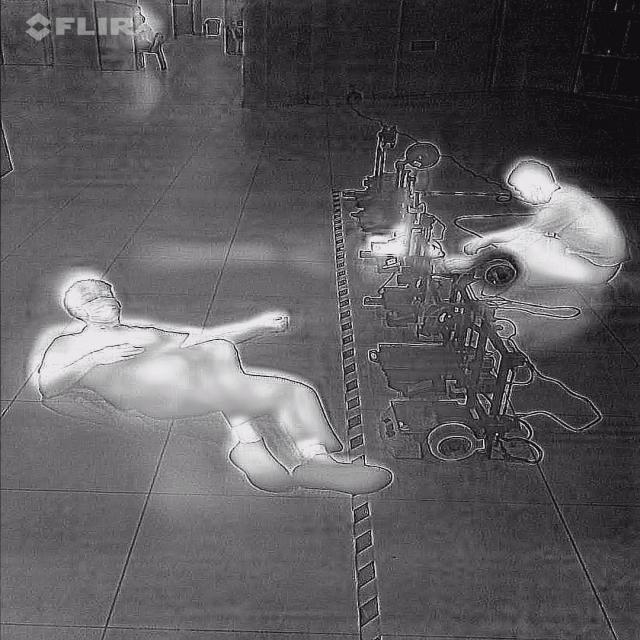Victim: (28, 266, 398, 502), (438, 144, 626, 297)
